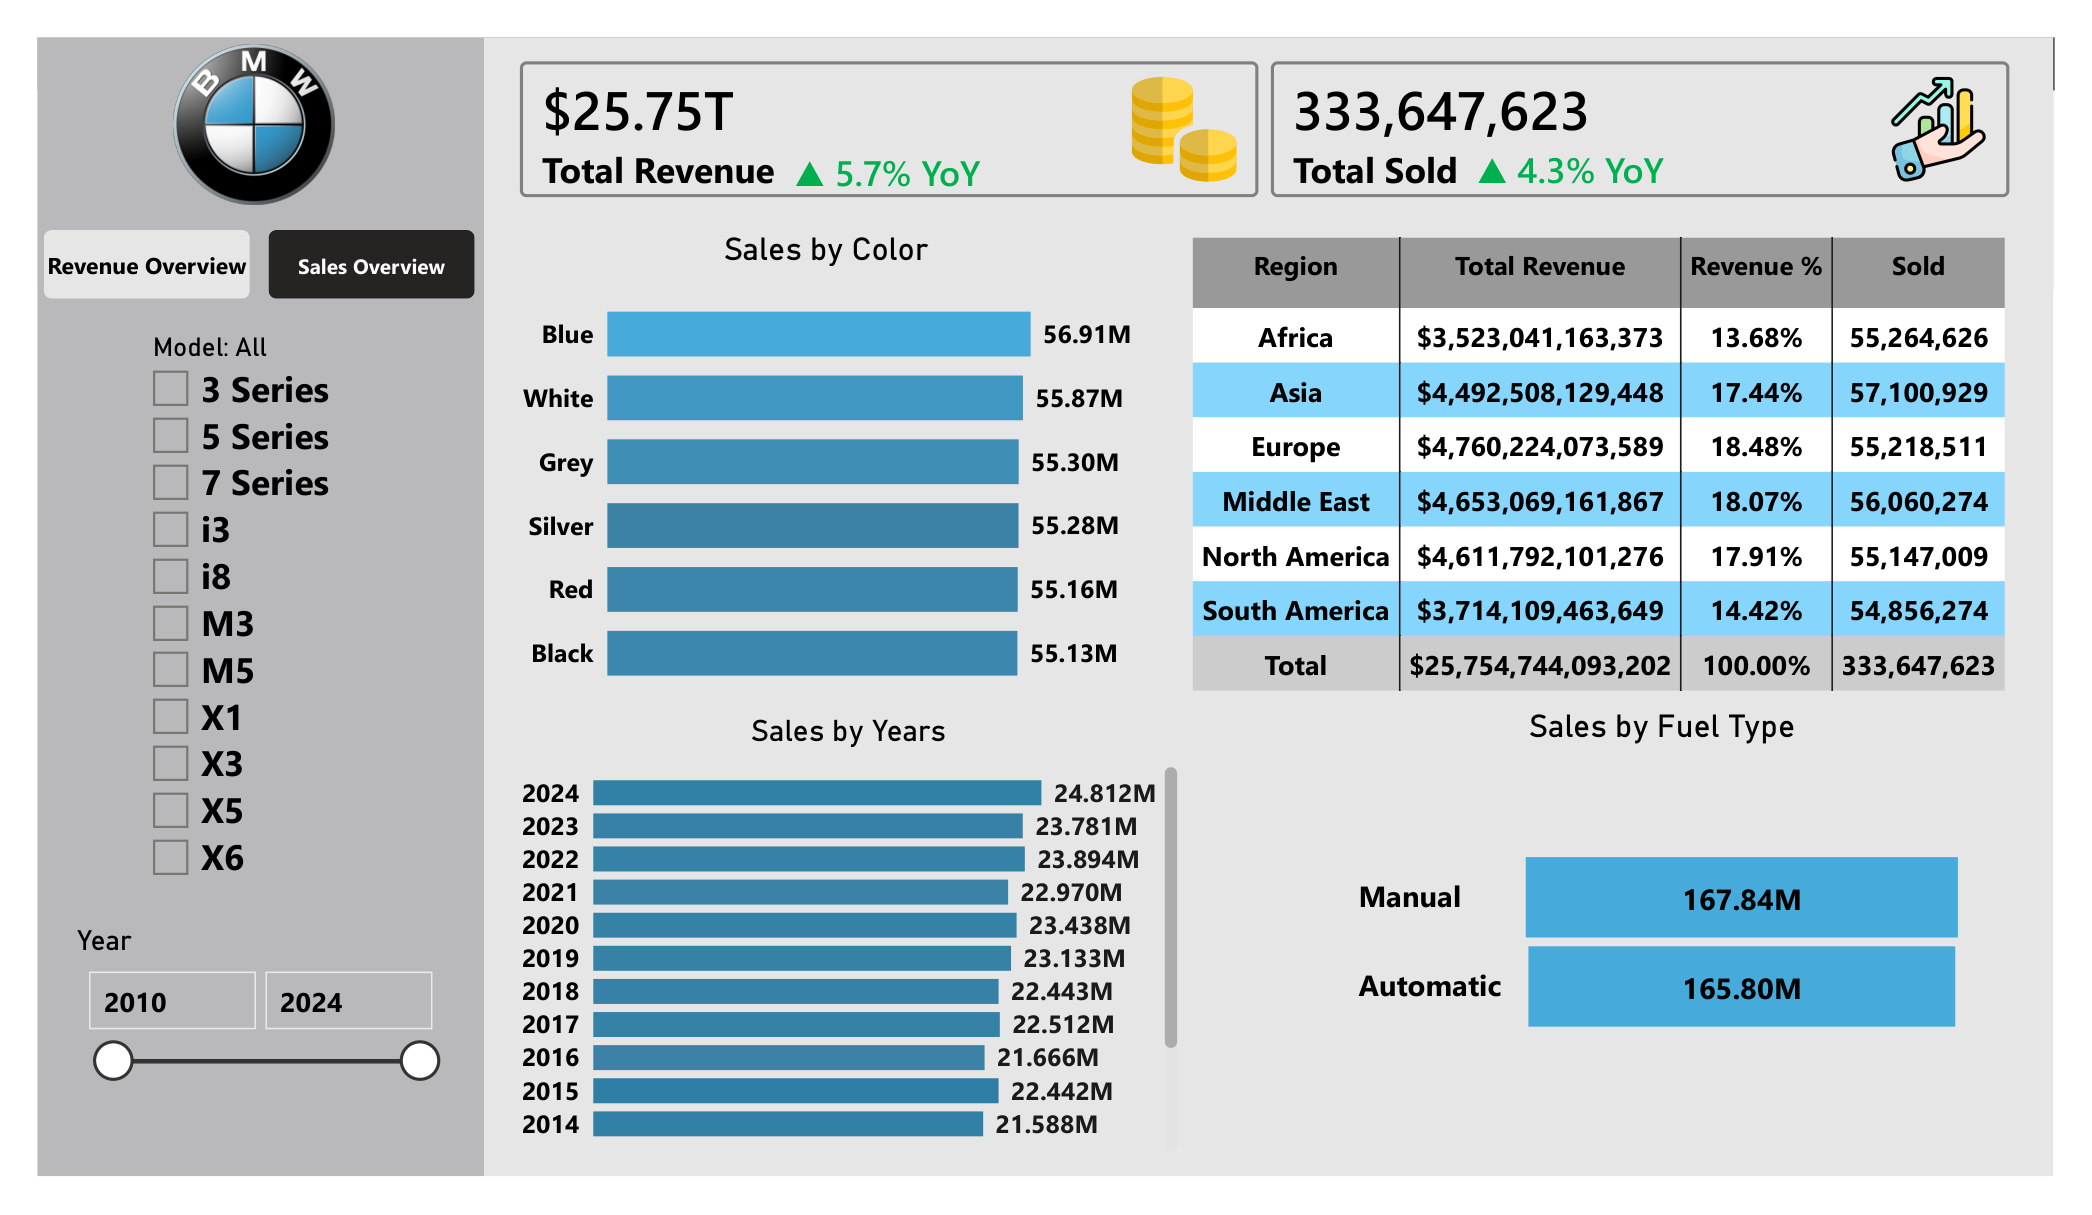

What the dashboard file says about the page in this screenshot:
{"tool":"powerbi","page":{"name":"Sales Overview","canvas":[1291,729],"ordinal":1},"visuals":[{"type":"shape","box":[0,0,285.7,728.6],"z":0},{"type":"funnel","title":"Sales by Fuel Type","fields":{"Y":["Sum(bmw_sales_data_2010_2024.Sales_Volume)"],"Category":["bmw_sales_data_2010_2024.Transmission"]},"box":[840.9,429.1,398.9,275.5],"z":1000},{"type":"tableEx","fields":{"Values":["bmw_sales_data_2010_2024.Region","bmw_sales_data_2010_2024.Total Revenue","Divide(bmw_sales_data_2010_2024.Total Revenue, ScopedEval(bmw_sales_data_2010_2024.Total Revenue, []))","Sum(bmw_sales_data_2010_2024.Sales_Volume)"]},"box":[734.3,122.9,534.3,308.6],"z":2000},{"type":"slicer","fields":{"Values":["bmw_sales_data_2010_2024.Model"]},"box":[61.4,182.9,171.4,361.4],"z":3000},{"type":"clusteredBarChart","title":"Sales by Color","fields":{"Category":["bmw_sales_data_2010_2024.Color"],"Y":["Sum(bmw_sales_data_2010_2024.Sales_Volume)"]},"box":[304.3,122.9,401.4,308.6],"z":4000},{"type":"image","box":[67.1,4.3,141.4,102.9],"z":5000},{"type":"barChart","title":"Sales by Years","fields":{"Category":["bmw_sales_data_2010_2024.Year"],"Y":["Sum(bmw_sales_data_2010_2024.Sales_Volume)"]},"box":[304.2,431.9,430.5,285.6],"z":6000},{"type":"slicer","title":"Year","fields":{"Values":["bmw_sales_data_2010_2024.Year"]},"box":[20,567.1,245.7,140],"z":7000},{"type":"cardVisual","fields":{"Data":["bmw_sales_data_2010_2024.Total Revenue","Sum(bmw_sales_data_2010_2024.Sales_Volume)"]},"box":[304.3,10,964.3,97.1],"z":8000},{"type":"cardVisual","fields":{"Data":["bmw_sales_data_2010_2024.Revenue Trend Text"]},"box":[456.3,56,219.6,57.4],"z":9000},{"type":"cardVisual","fields":{"Data":["bmw_sales_data_2010_2024.Sales Volume Trend Text"]},"box":[892.6,53.1,202.3,58.8],"z":10000},{"type":"image","box":[695.5,24.8,78.7,67.1],"z":11000},{"type":"image","box":[1178.1,24.8,78.7,67.1],"z":12000},{"type":"pageNavigator","box":[4.3,122.9,275.7,44.3],"z":13000}]}

Visuals, with their boxes on the page's 1291x729 design canvas (x1, y1, x2, y2). These are canvas units, not pixel positions in the 2092x1215 screenshot, which may show the page scaled, cropped or inside an application window:
shape: select_region(0, 0, 286, 729)
"Sales by Fuel Type" funnel: select_region(841, 429, 1240, 705)
tableEx - bmw_sales_data_2010_2024.Region x bmw_sales_data_2010_2024.Total Revenue: select_region(734, 123, 1269, 432)
slicer - bmw_sales_data_2010_2024.Model: select_region(61, 183, 233, 544)
"Sales by Color" clusteredBarChart: select_region(304, 123, 706, 432)
image: select_region(67, 4, 208, 107)
"Sales by Years" barChart: select_region(304, 432, 735, 718)
"Year" slicer: select_region(20, 567, 266, 707)
cardVisual - bmw_sales_data_2010_2024.Total Revenue x Sum(bmw_sales_data_2010_2024.Sales_Volume): select_region(304, 10, 1269, 107)
cardVisual - bmw_sales_data_2010_2024.Revenue Trend Text: select_region(456, 56, 676, 113)
cardVisual - bmw_sales_data_2010_2024.Sales Volume Trend Text: select_region(893, 53, 1095, 112)
image: select_region(696, 25, 774, 92)
image: select_region(1178, 25, 1257, 92)
pageNavigator: select_region(4, 123, 280, 167)
